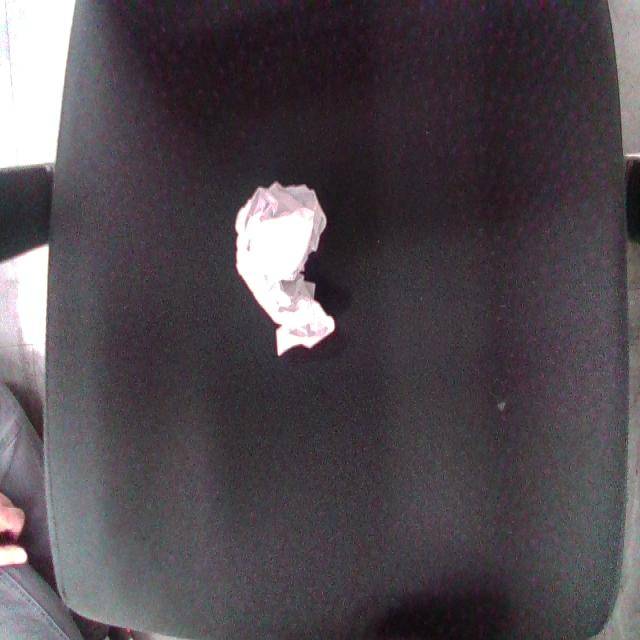paper: (192, 140, 364, 386)
